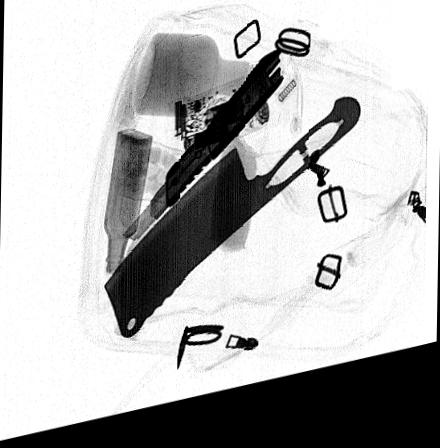Knife: (101, 113, 360, 345), (119, 60, 282, 247)
